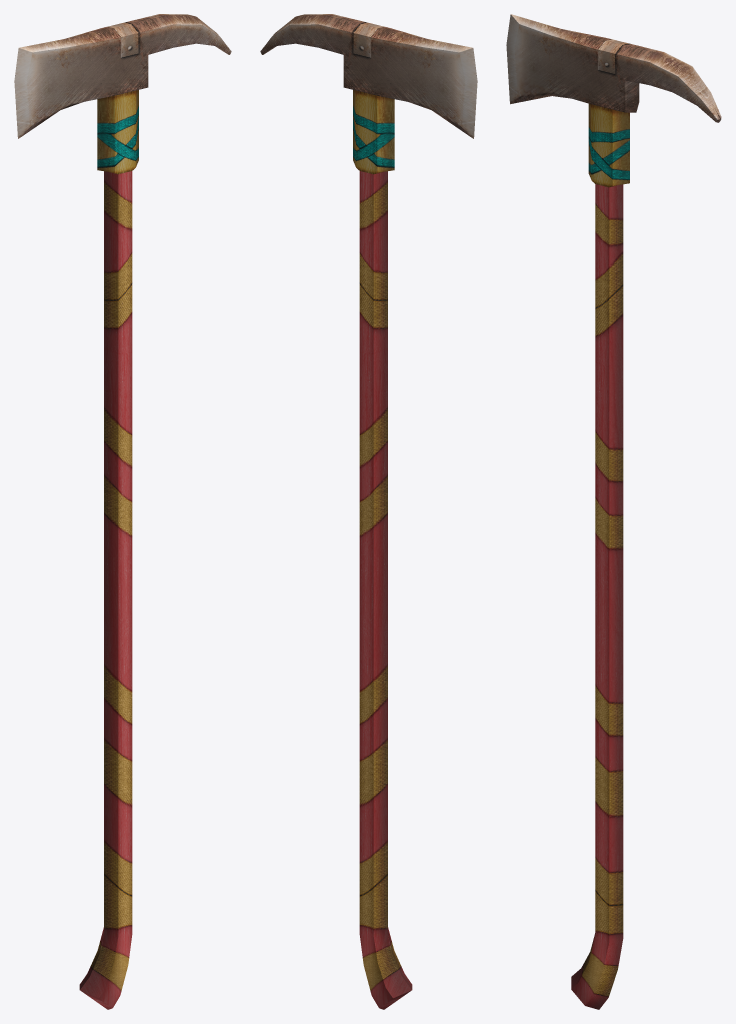
File: Length_Axe.fbx
The picture shows the model from 3 angles, left to right: view 1: azimuth 30°, elevation 25°; view 2: azimuth 150°, elevation 25°; view 3: azimuth 330°, elevation 25°; orthographic projection.
Visible parts, largest first — view 1: axe; view 2: axe; view 3: axe.
Part boxes in pixels (bbox=[...]): axe: bbox=[14, 14, 231, 1009]; axe: bbox=[260, 14, 477, 1009]; axe: bbox=[506, 14, 721, 1009].
Size of the model in its own units: 0.0284 by 0.1231 by 0.00433.
